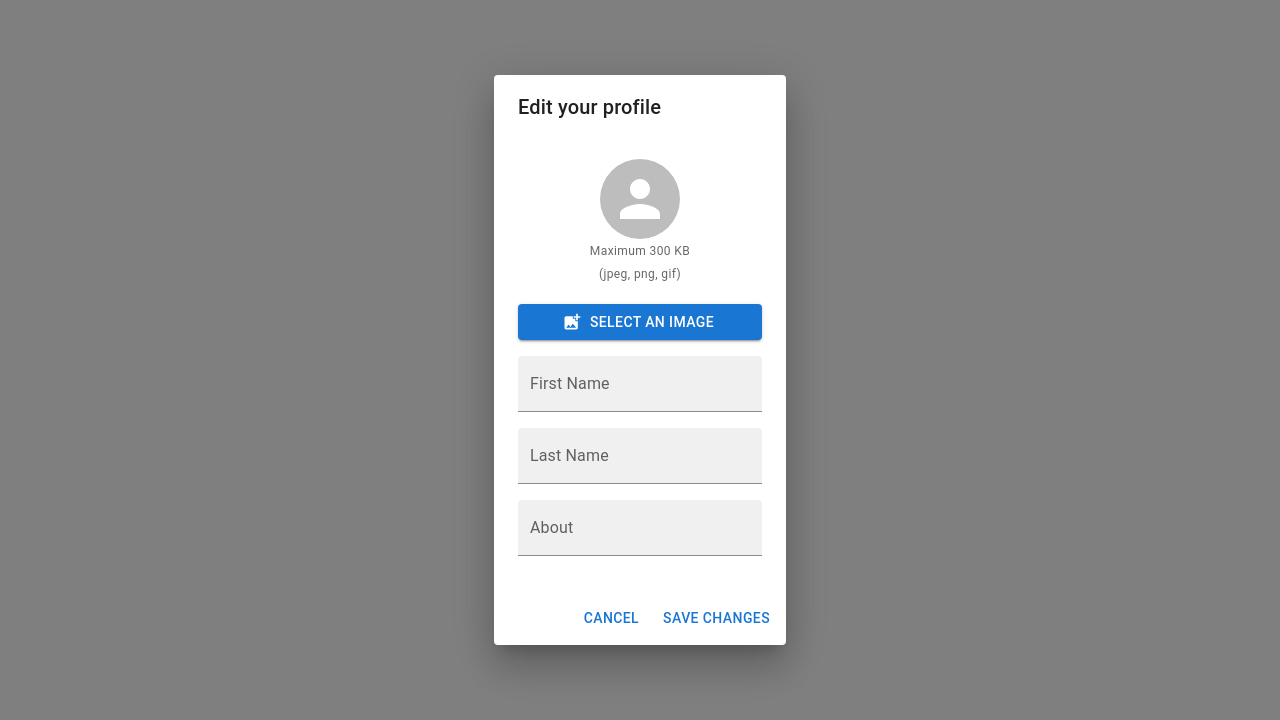
Test: EditDialog component tests: › Should show error message under About input.
This screenshot has width=1280, height=720.
In the text box with placeholder "About You": (640, 537) [530, 525, 750, 548], type "more than 2048 chars"
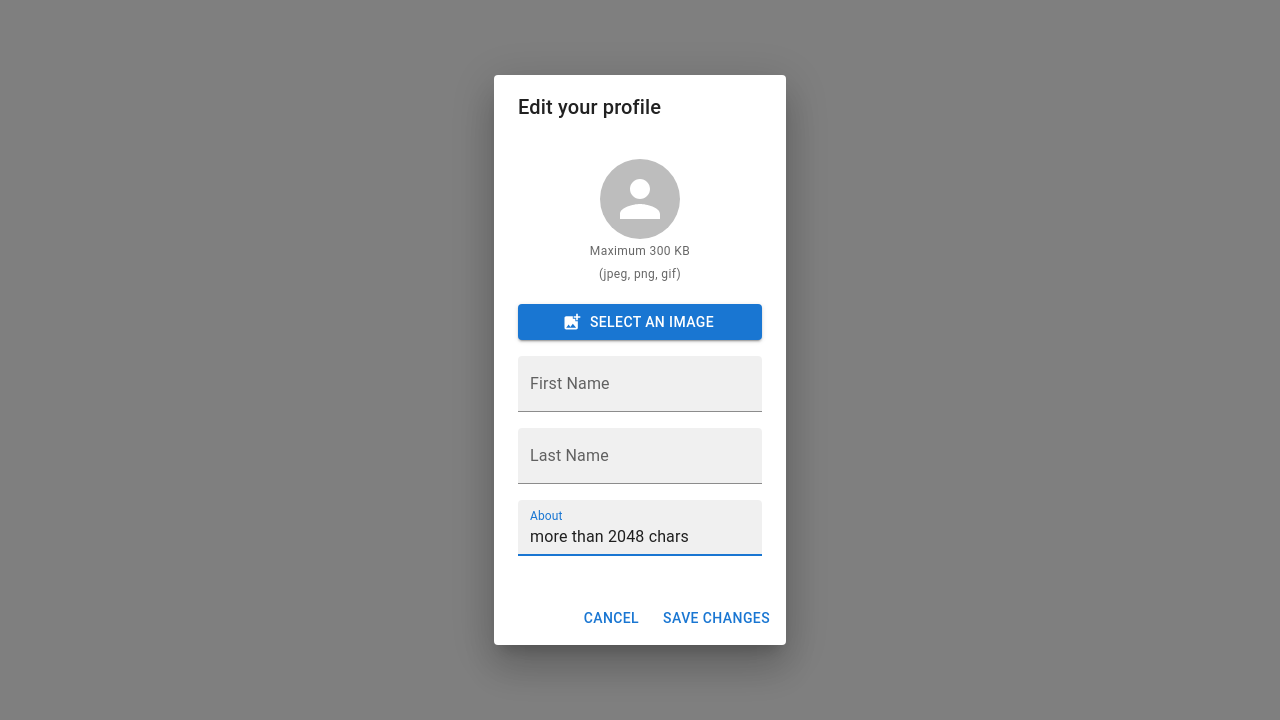
Click the button "Save Changes": (717, 619) [655, 600, 778, 637]
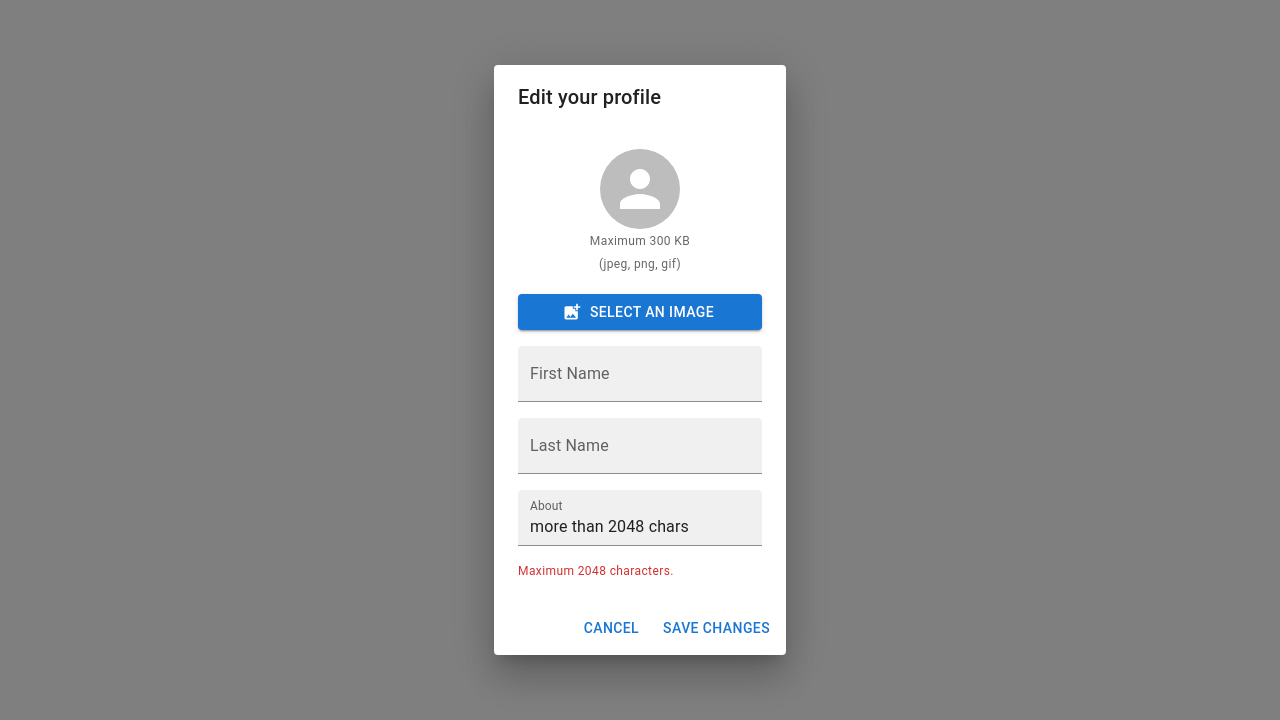
Expected: the text "Maximum 2048 characters." is shown, [518, 564, 674, 578]
